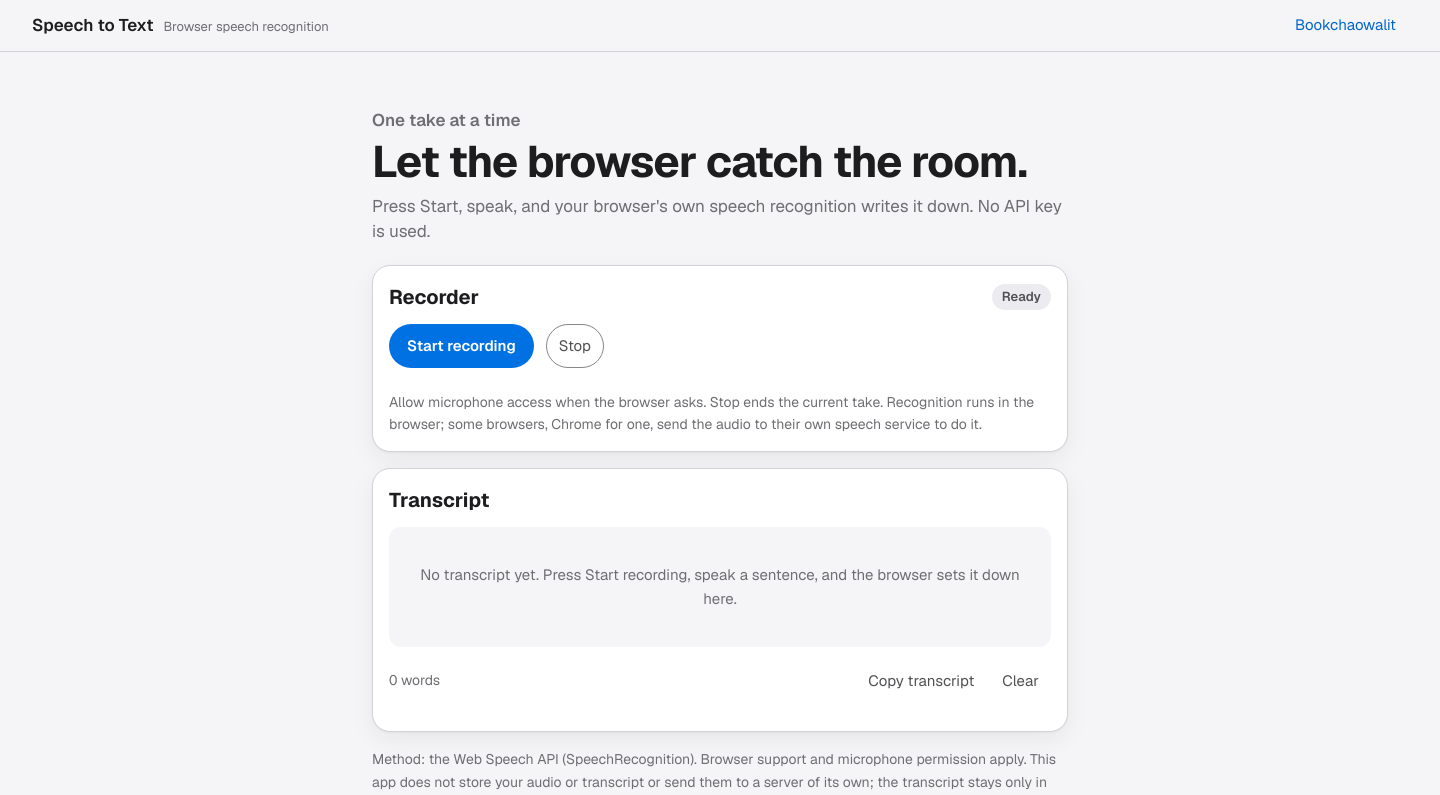
Scenario: recorder › keeps a pending copy result when the browser repeats the same transcript
Click the button "Start recording": (461, 346) [389, 324, 534, 368]
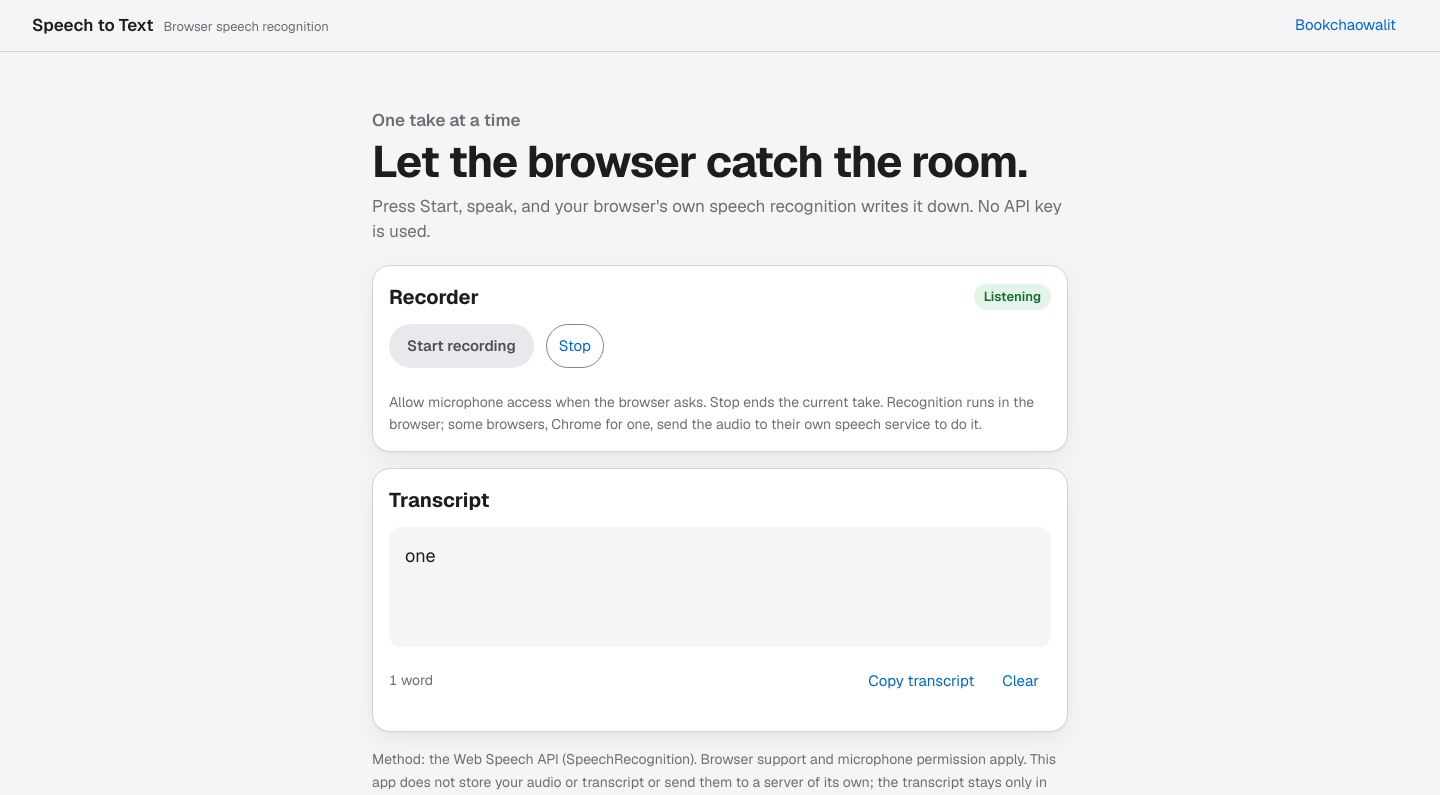
Click the button "Copy transcript": (921, 681) [856, 659, 986, 703]
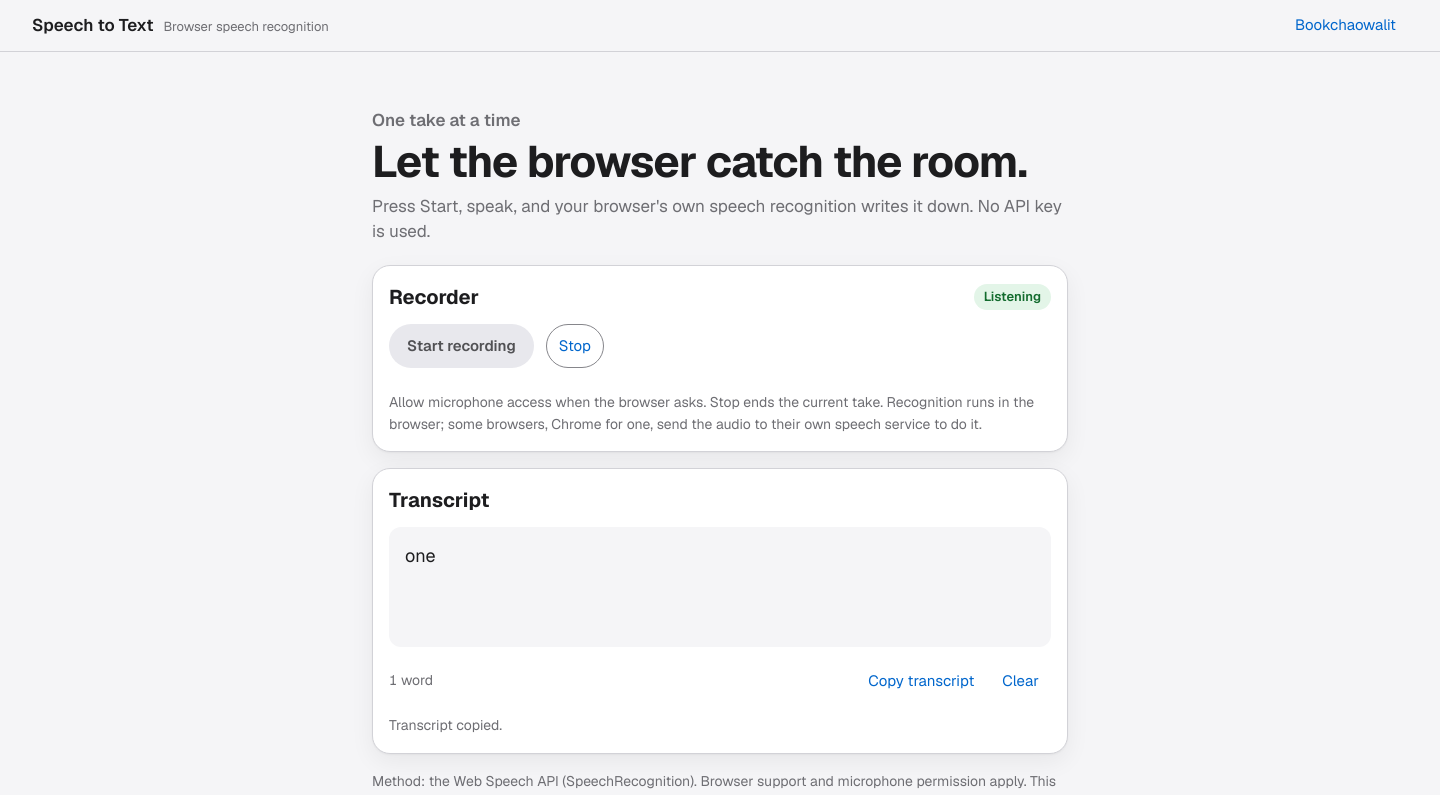
Check: the message with class "st-copy-status" reads "Transcript copied.", box [389, 716, 502, 734]
